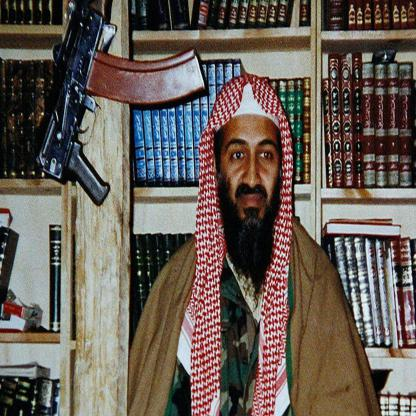rifle: (32, 2, 210, 207)
